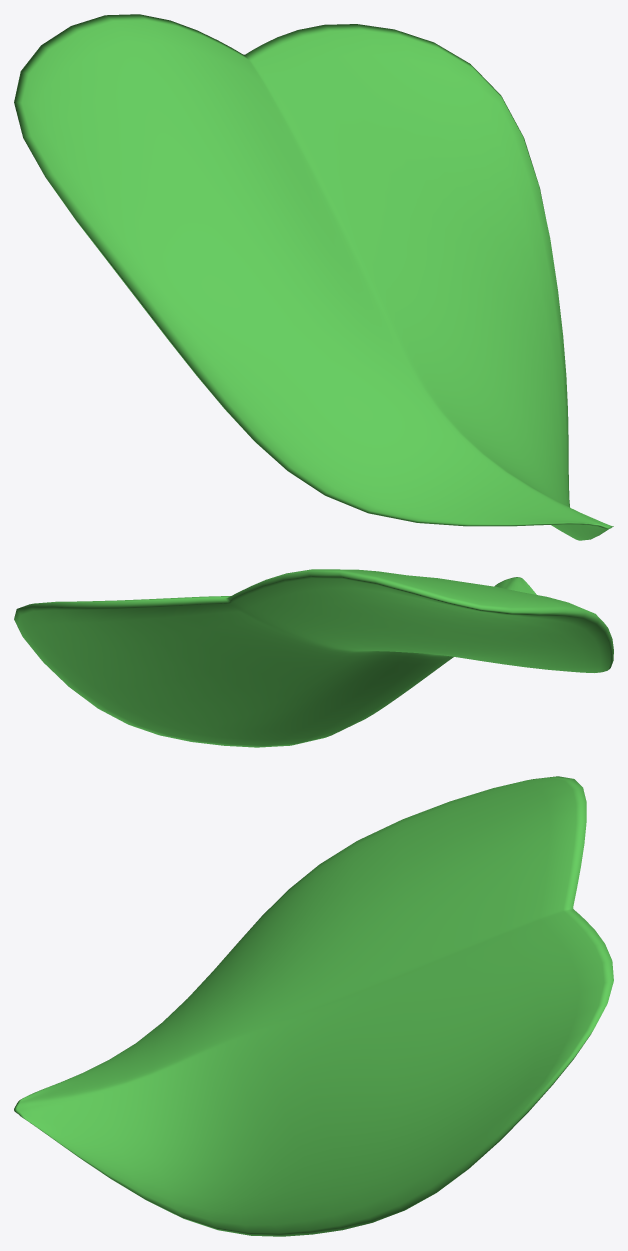
Rendered from Leaf.fbx.
The picture shows the model from 3 angles, top to bottom: view 1: azimuth 30°, elevation 25°; view 2: azimuth 150°, elevation 25°; view 3: azimuth 270°, elevation 25°; orthographic projection. The views are drawn at different scales.
Visible parts, largest first — view 1: pea leaves.002; view 2: pea leaves.002; view 3: pea leaves.002.
Part boxes in pixels (bbox=[...]): pea leaves.002: bbox=[14, 14, 613, 540]; pea leaves.002: bbox=[14, 569, 613, 747]; pea leaves.002: bbox=[14, 776, 613, 1236].
Size of the model in its own units: 72.37 by 53.06 by 87.08.
